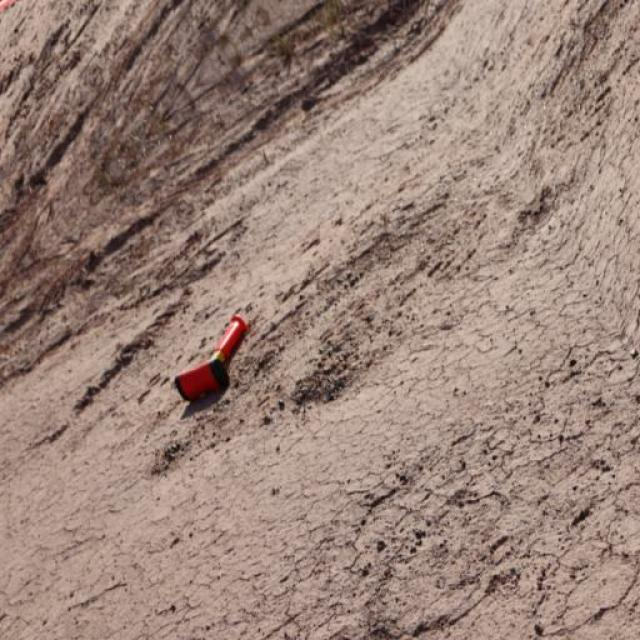mallet: (174, 312, 251, 402)
